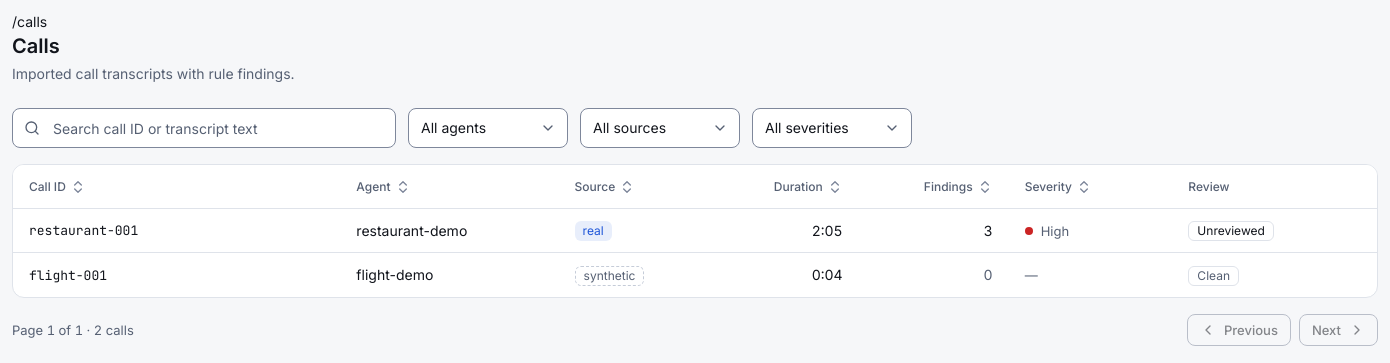
calls page › sorts text columns ascending first
Click the button "Agent" at coordinates (384, 186), box x1=356 y1=170 x2=411 y2=202
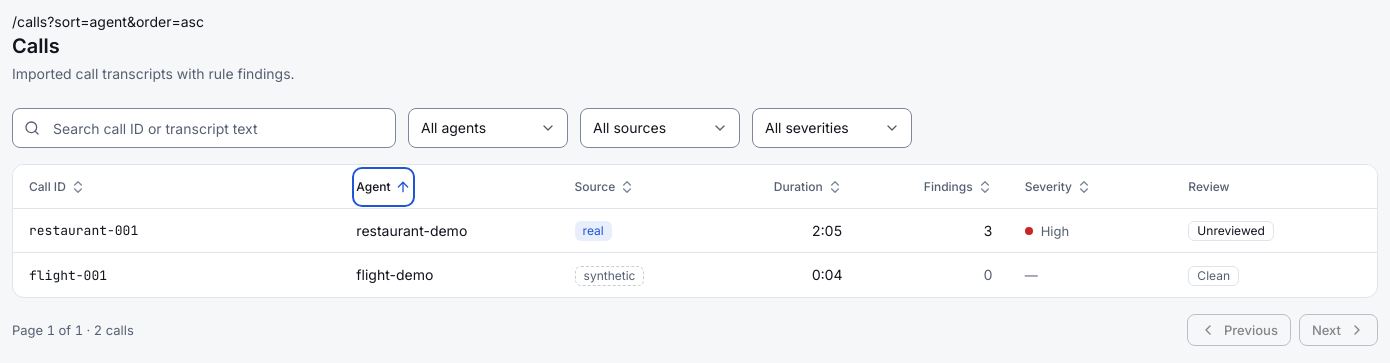
expect the text with test id "location" reads "/calls?sort=agent&order=asc": met, box x1=12 y1=13 x2=204 y2=30
